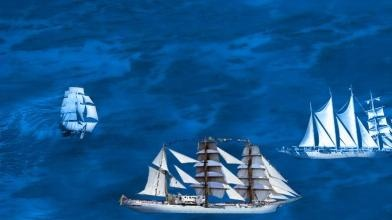fanchuan: (115, 137, 301, 210), (288, 92, 390, 159), (56, 85, 97, 136)
